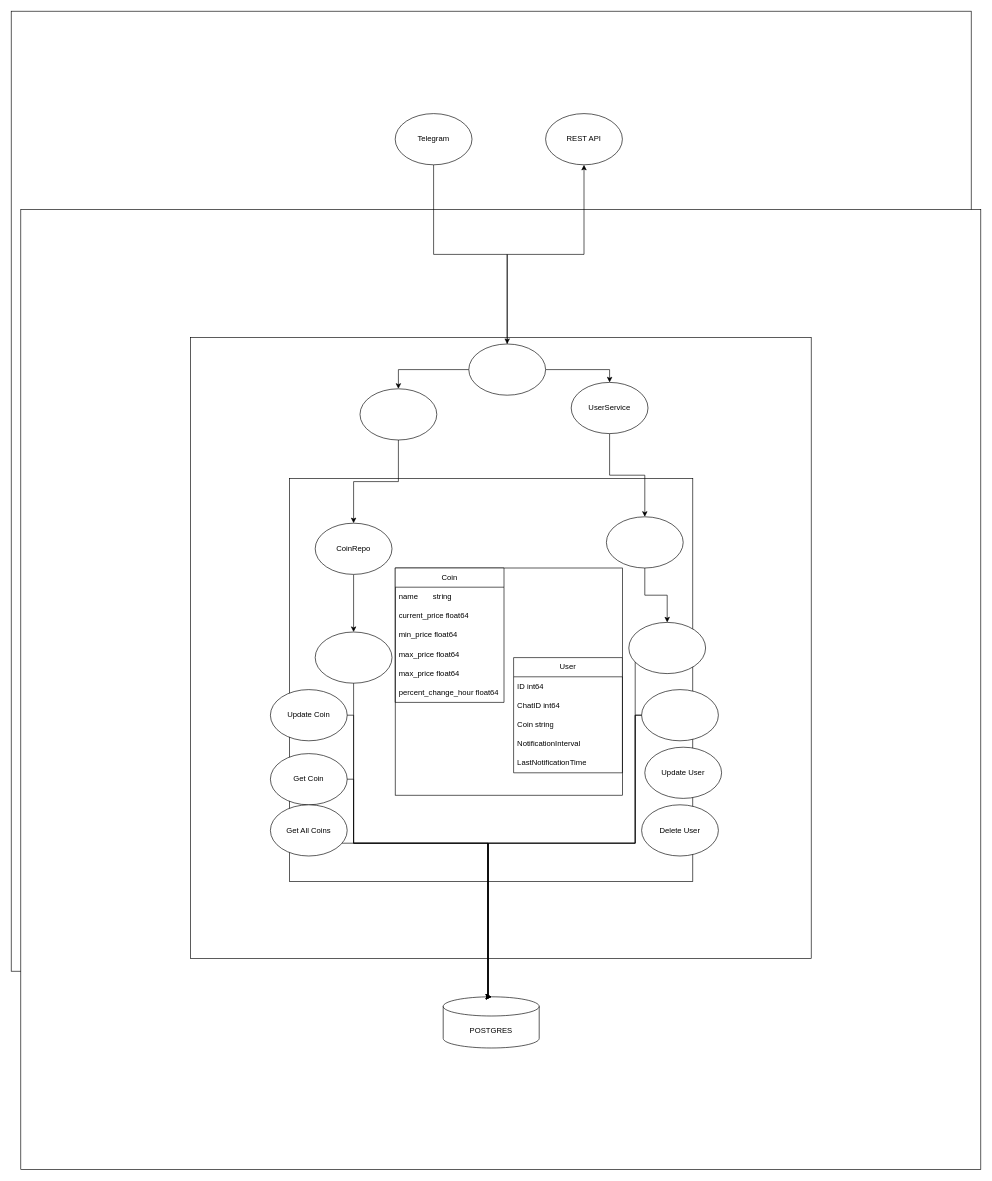
Some shapes in this 992 by 1181 pixel diagram are drawn without their labels. Here are the shapes that lost their labels. From the top down, the centre of each, then its label:
(507,369): Service
(398,414): CoinService
(644,542): UserRepo
(353,657): CreateCoin
(667,648): ExistsUser
(679,715): Create User
